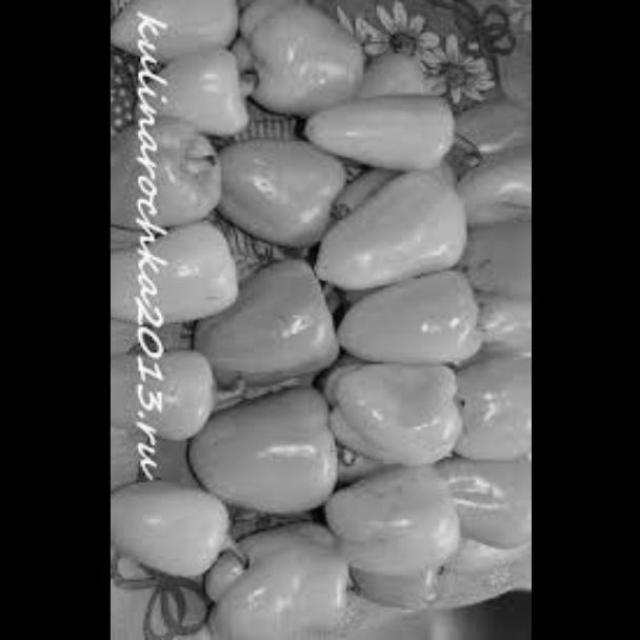ot chuong: (437, 53, 531, 579), (184, 377, 353, 520), (197, 253, 352, 395), (305, 51, 472, 178), (313, 168, 466, 297), (236, 2, 378, 131), (220, 513, 360, 639), (215, 130, 352, 250), (334, 267, 481, 375), (317, 465, 458, 577), (111, 208, 245, 325), (322, 355, 465, 462), (110, 112, 232, 234), (111, 344, 232, 448), (110, 484, 237, 583), (136, 51, 270, 141), (115, 0, 234, 74)
